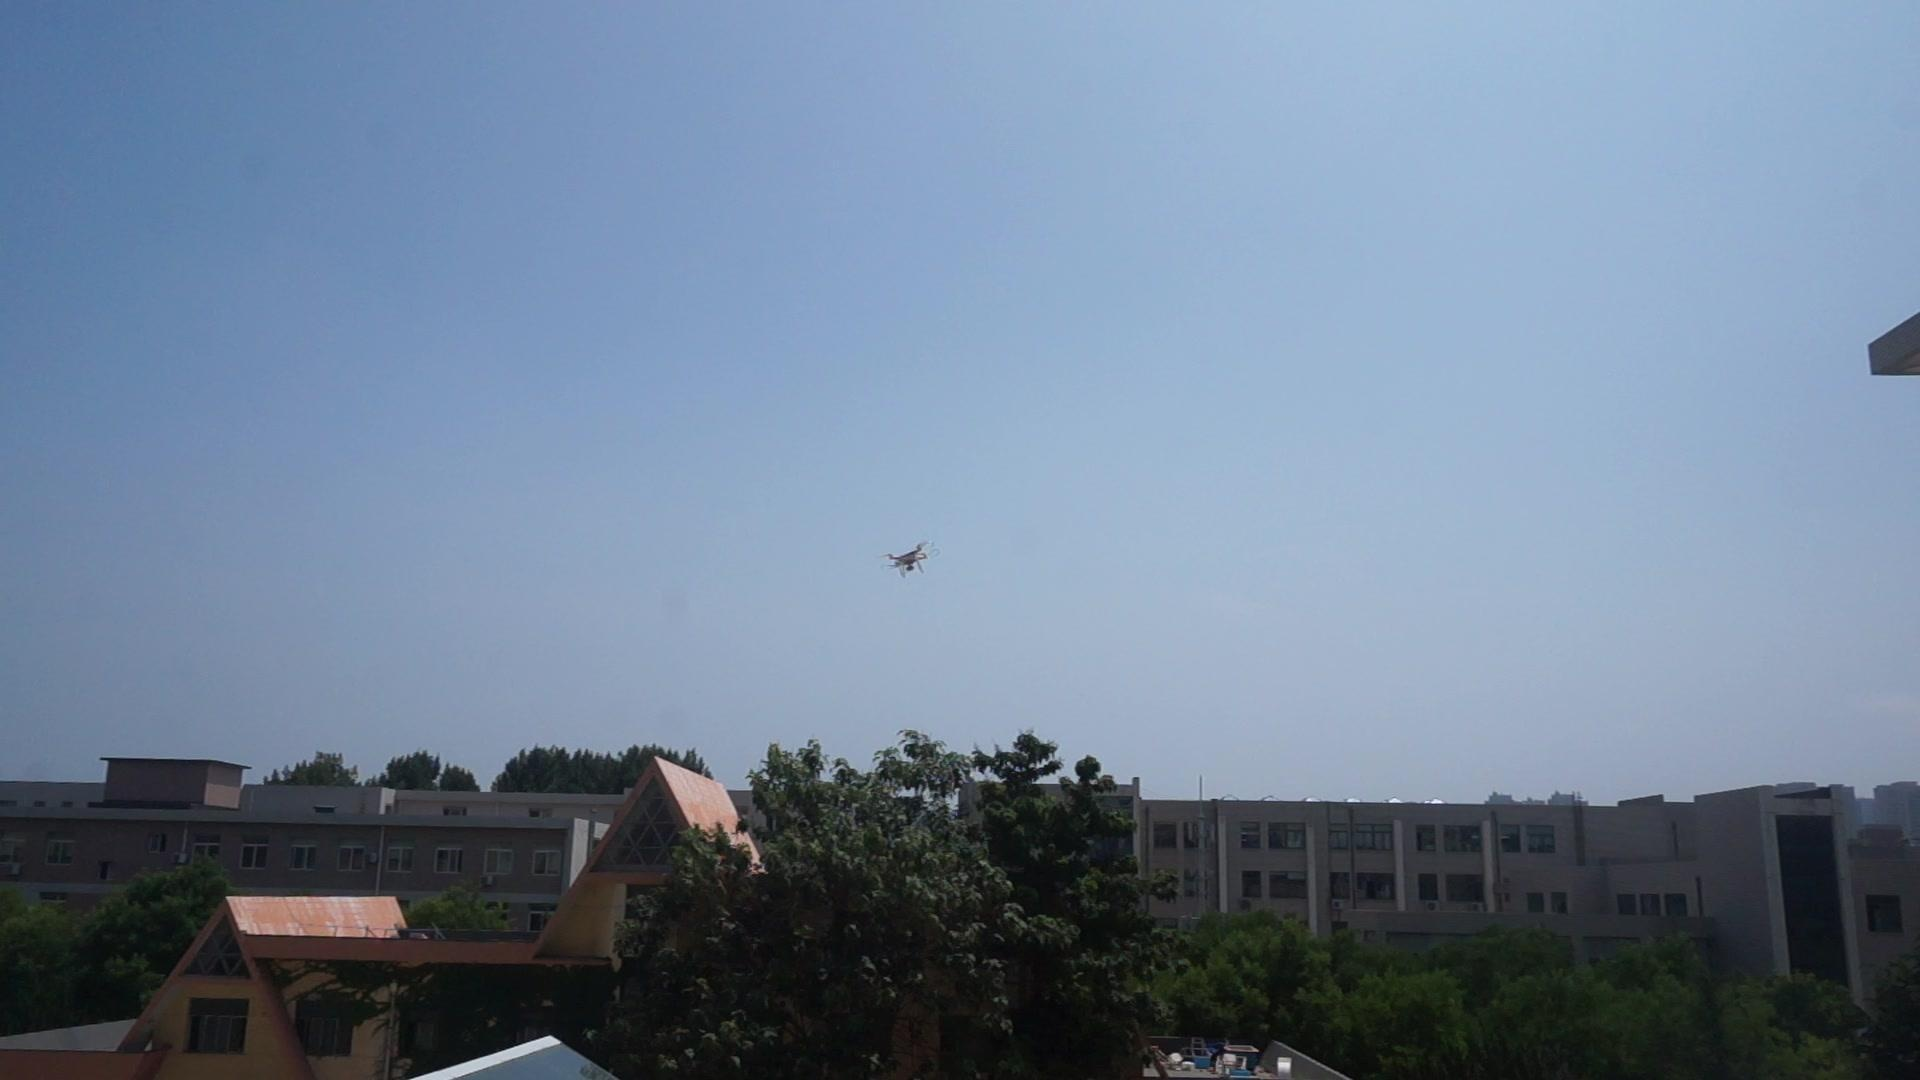UAV: (881, 541, 942, 580)
